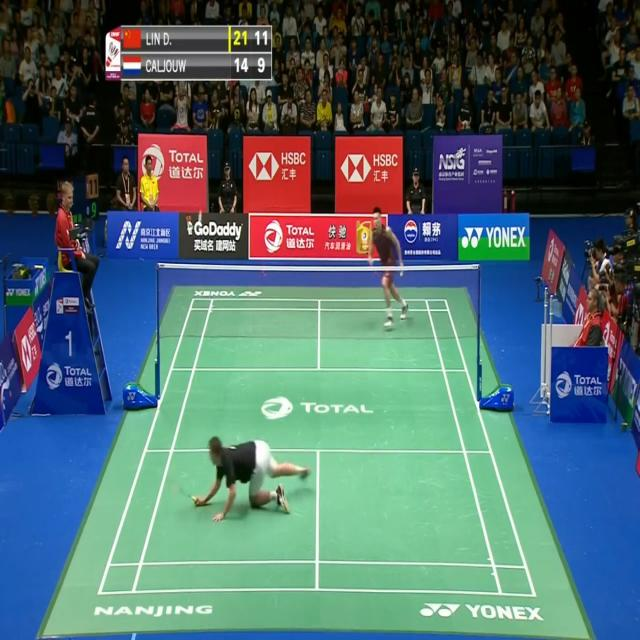Player1: (162, 424, 322, 523)
Player2: (361, 195, 413, 332)
